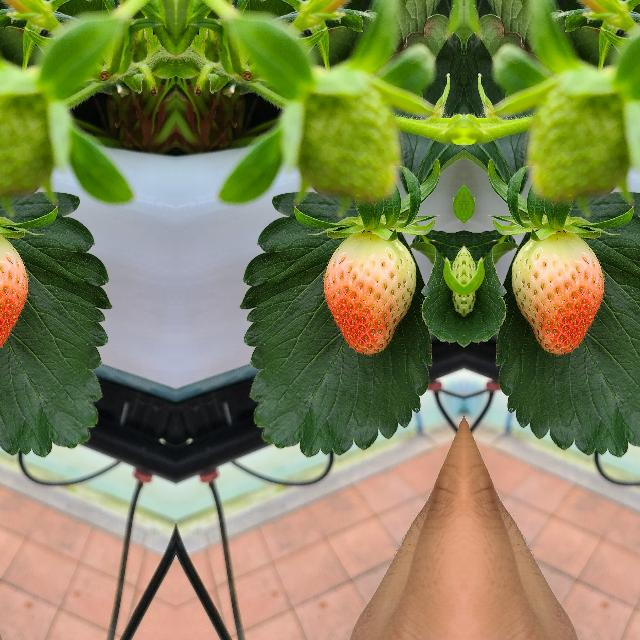Health_75: (323, 230, 415, 354), (511, 230, 603, 354), (0, 230, 27, 353)
